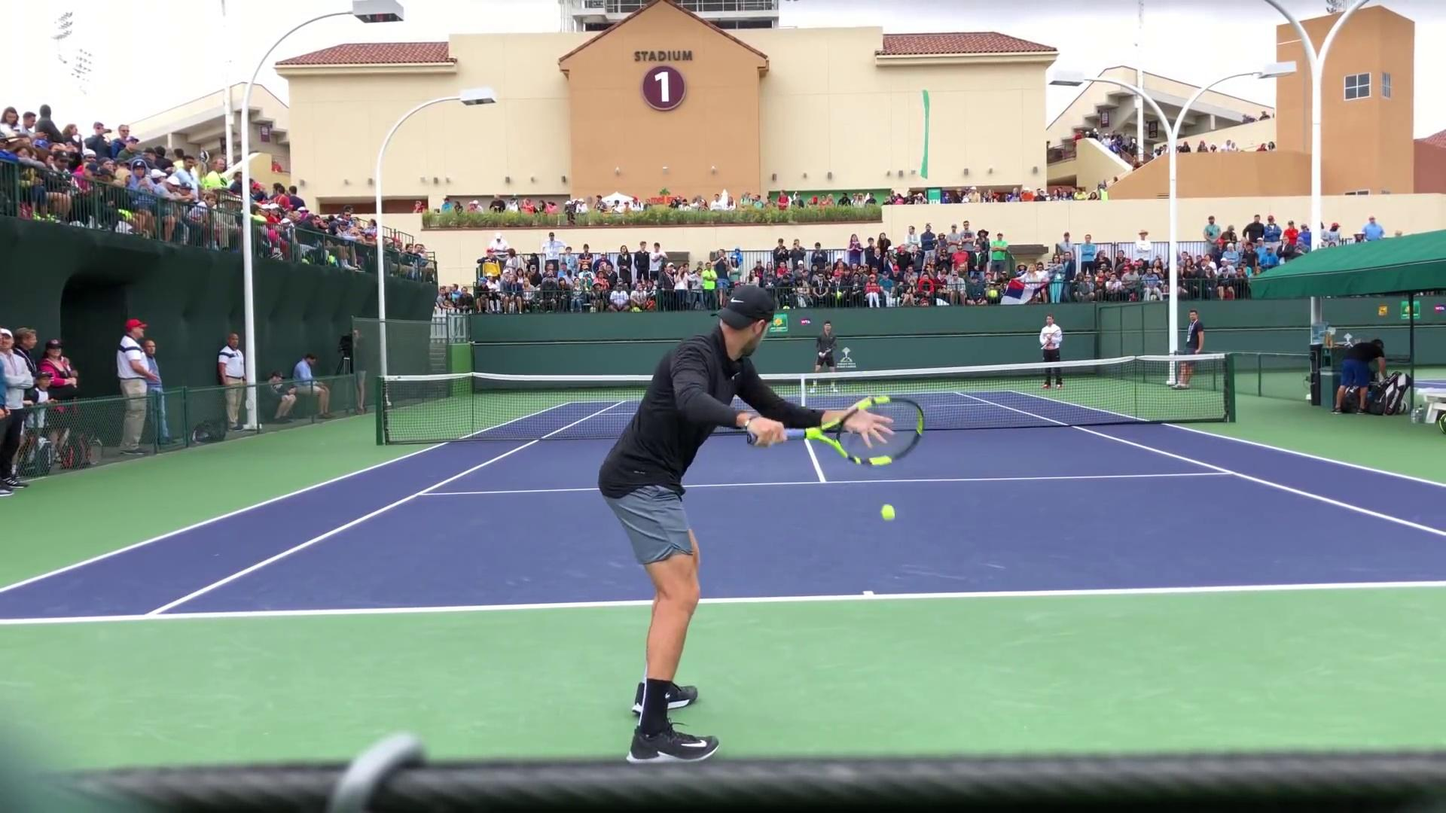ball: (879, 504, 897, 522)
